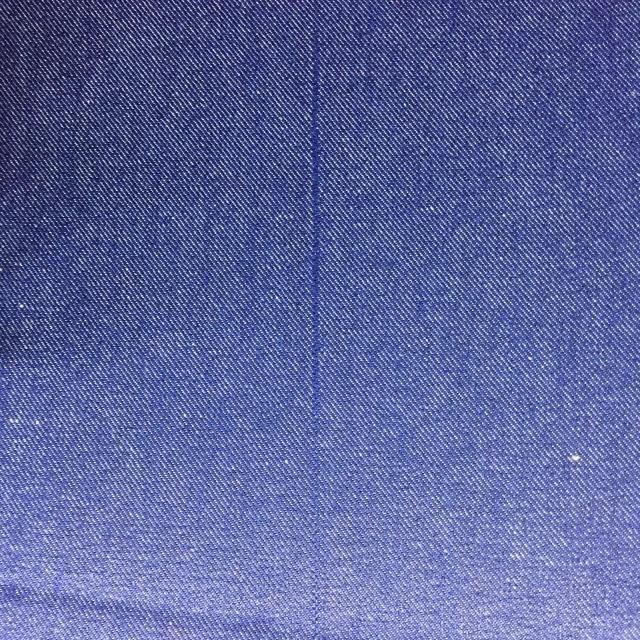Line: (307, 0, 320, 640)
